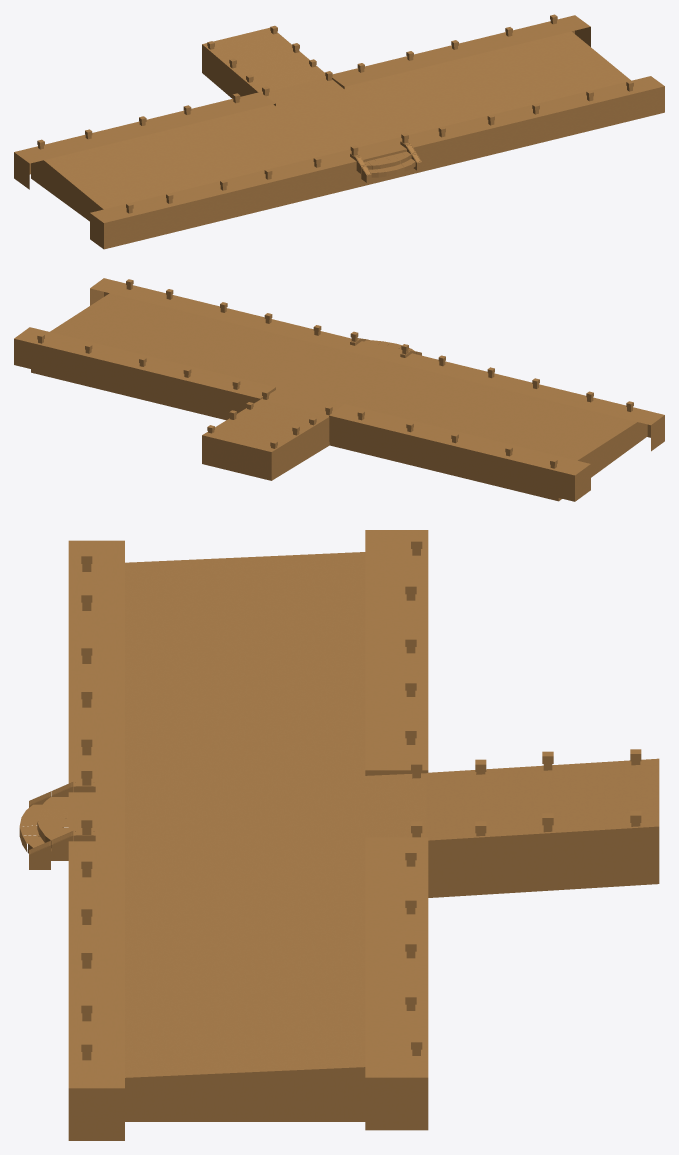
The model's file is Background-Stage.fbx.
3 views of the same model, one above another, from view 1: azimuth 30°, elevation 25°; view 2: azimuth 150°, elevation 25°; view 3: azimuth 270°, elevation 25° (orthographic). The views are drawn at different scales.
Parts seen in each view (by area): view 1: Floor; view 2: Floor; view 3: Floor.
Boxes of the visible parts, x1=… form: Floor: x1=14, y1=14, x2=664, y2=249; Floor: x1=14, y1=278, x2=664, y2=501; Floor: x1=19, y1=530, x2=659, y2=1140.
Bounding box in the file's own units: 63113 × 4551 × 31168.
Materials: 1 (1 with a texture image).
